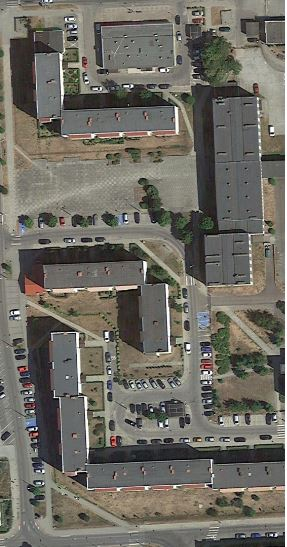block of flats: (44, 327, 287, 494), (29, 47, 181, 140), (40, 256, 173, 358), (201, 92, 264, 291)
shopping_center: (93, 19, 183, 77)
